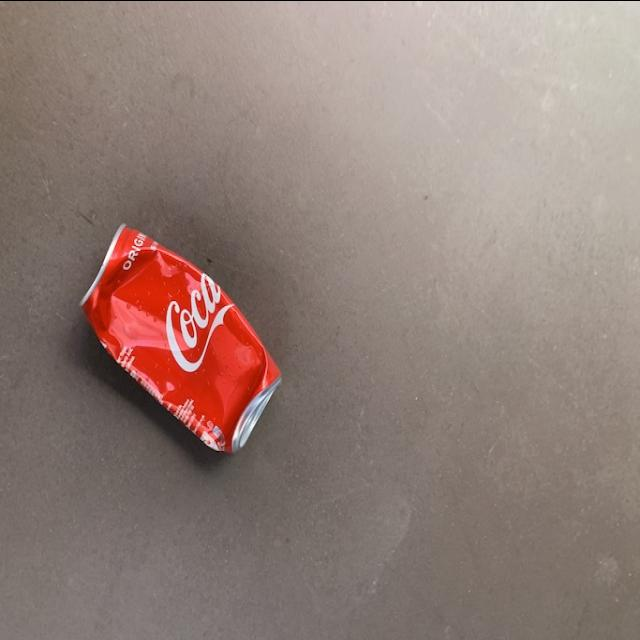Aluminum Can: (74, 217, 290, 462)
